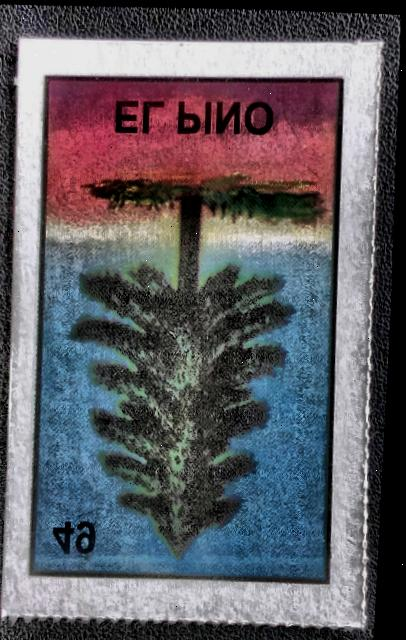El Pino: (17, 55, 367, 603)
